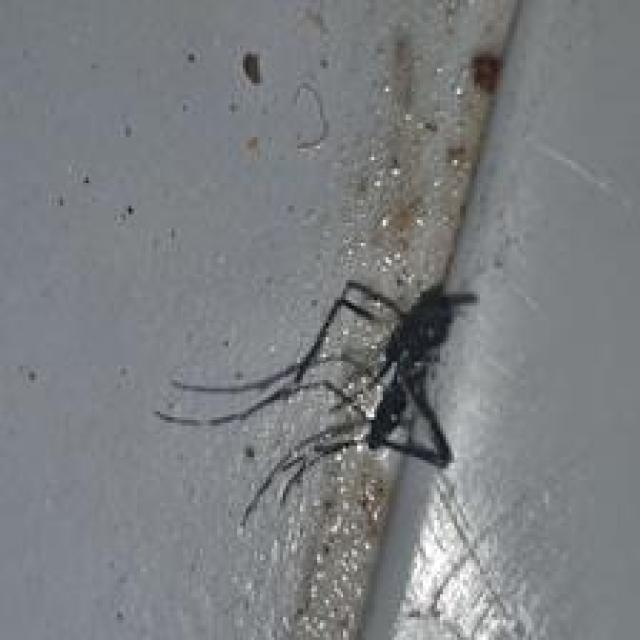Aedes albopictus: (153, 276, 478, 533)
